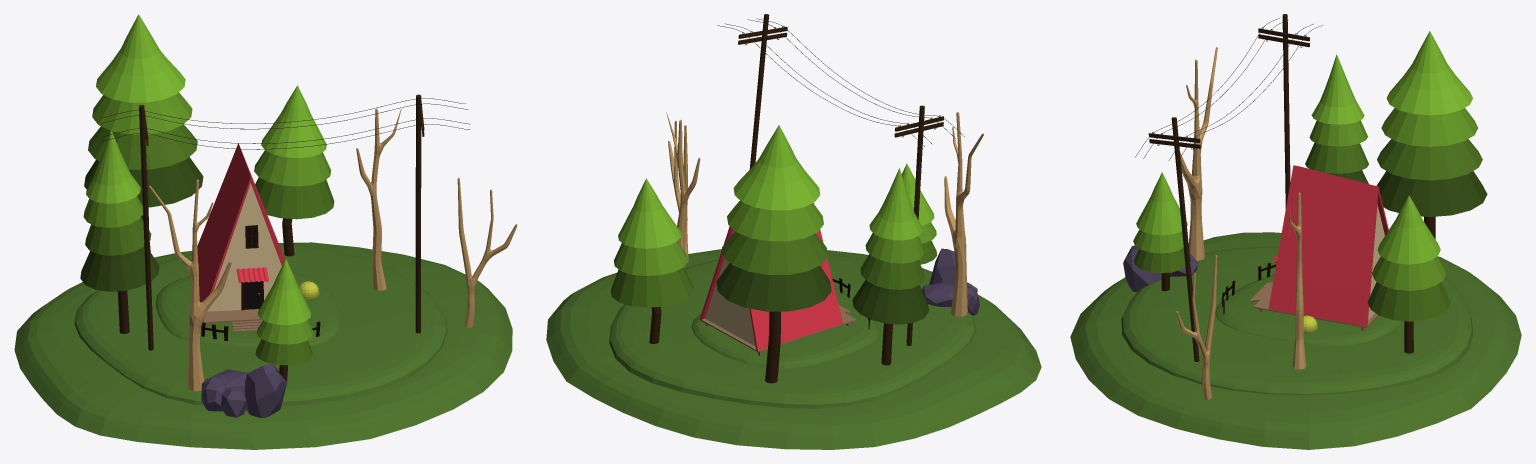
The model's file is UnityScene.fbx.
3 renders of one model, left to right at view 1: azimuth 30°, elevation 25°; view 2: azimuth 150°, elevation 25°; view 3: azimuth 270°, elevation 25°, orthographic. The views are drawn at different scales.
Visible parts, largest first — view 1: Ground.002, tree01.002, house.003, tree02.002, tree03.002, electric.002, tree04.002, trunk02.002, rock_01.002, trunk01.002, trunk03.002, rock_03.002 (+1 smaller); view 2: Ground.002, tree01.002, tree02.002, tree03.002, house.003, electric.002, trunk02.002, tree04.002, trunk01.002, trunk03.002, rock_01.002, rock_04.002; view 3: Ground.002, house.003, tree01.002, tree03.002, tree02.002, electric.002, tree04.002, trunk02.002, trunk03.002, trunk01.002, rock_01.002.
Part boxes in pixels (left/top/right/bottom): Ground.002: left=14, top=242, right=512, bottom=449; tree01.002: left=84, top=14, right=203, bottom=251; house.003: left=188, top=143, right=285, bottom=332; tree02.002: left=80, top=130, right=159, bottom=333; tree03.002: left=254, top=85, right=334, bottom=256; electric.002: left=99, top=94, right=470, bottom=350; tree04.002: left=255, top=259, right=313, bottom=381; trunk02.002: left=149, top=179, right=231, bottom=391; rock_01.002: left=244, top=363, right=286, bottom=418; trunk01.002: left=356, top=108, right=401, bottom=290; trunk03.002: left=457, top=177, right=517, bottom=327; rock_03.002: left=201, top=377, right=225, bottom=411; Ground.002: left=546, top=249, right=1041, bottom=449; tree01.002: left=716, top=125, right=831, bottom=383; tree02.002: left=852, top=168, right=928, bottom=365; tree03.002: left=610, top=178, right=693, bottom=343; house.003: left=699, top=203, right=856, bottom=355; electric.002: left=717, top=14, right=964, bottom=345; trunk02.002: left=944, top=112, right=983, bottom=316; tree04.002: left=901, top=163, right=937, bottom=264; trunk01.002: left=666, top=112, right=700, bottom=267; trunk03.002: left=668, top=120, right=688, bottom=262; rock_01.002: left=929, top=248, right=955, bottom=284; rock_04.002: left=922, top=282, right=954, bottom=306; Ground.002: left=1070, top=232, right=1521, bottom=449; house.003: left=1249, top=165, right=1388, bottom=330; tree01.002: left=1376, top=31, right=1487, bottom=239; tree03.002: left=1367, top=195, right=1450, bottom=353; tree02.002: left=1305, top=54, right=1368, bottom=183; electric.002: left=1135, top=14, right=1322, bottom=361; tree04.002: left=1133, top=172, right=1187, bottom=291; trunk02.002: left=1180, top=47, right=1217, bottom=260; trunk03.002: left=1176, top=255, right=1217, bottom=399; trunk01.002: left=1288, top=192, right=1305, bottom=369; rock_01.002: left=1123, top=245, right=1161, bottom=292.
Bounding box in the file's own units: 2899 × 1827 × 2618.
